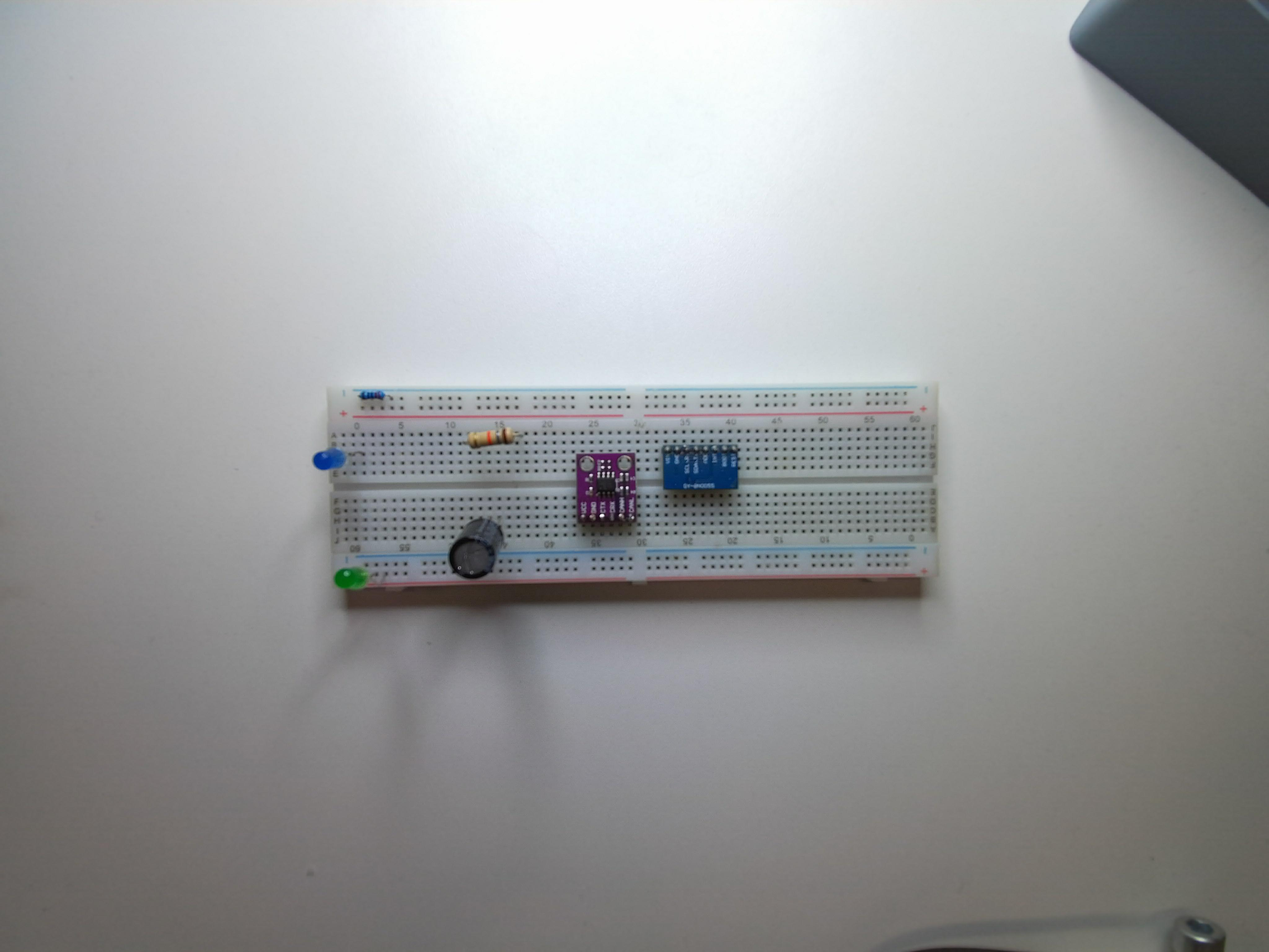base: (318, 382, 942, 601)
blue-board: (660, 440, 740, 495)
blue-led: (314, 449, 345, 470)
capacitor: (446, 510, 507, 585)
green-led: (332, 563, 374, 598)
purple-board: (573, 449, 639, 537)
resistor-big: (463, 426, 517, 455)
resistor-small: (359, 388, 385, 400)
